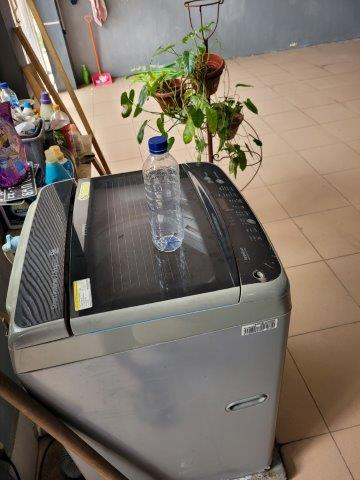botolplastik: (142, 141, 183, 255)
